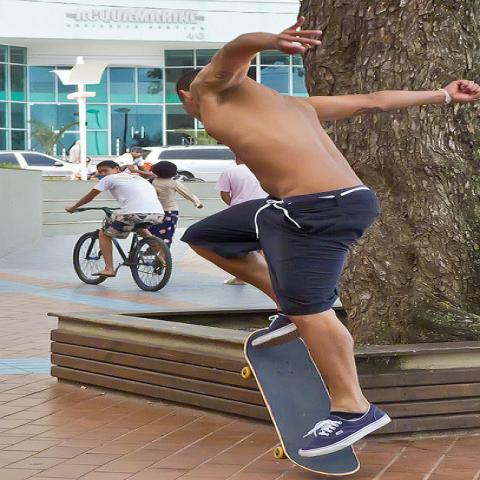car: (144, 144, 236, 183), (2, 150, 98, 177)
